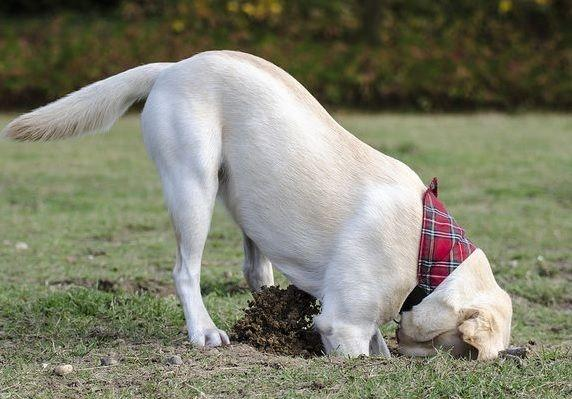adult_dog: (4, 51, 517, 363)
